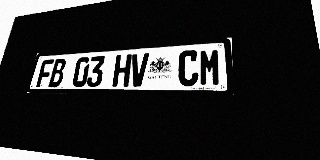0: (71, 57, 91, 87)
3: (86, 56, 105, 87)
B: (48, 58, 67, 87)
C: (178, 50, 199, 86)
F: (36, 59, 54, 87)
H: (112, 54, 132, 87)
M: (199, 48, 221, 86)
V: (129, 53, 149, 87)
